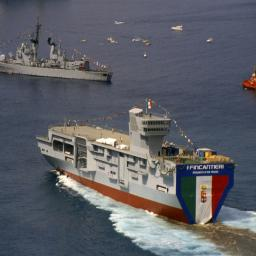Portanaves: (24, 93, 242, 238)
